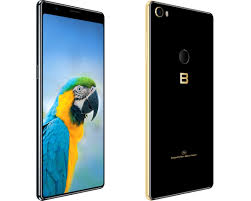bphone: (33, 1, 107, 200), (141, 1, 215, 200)
